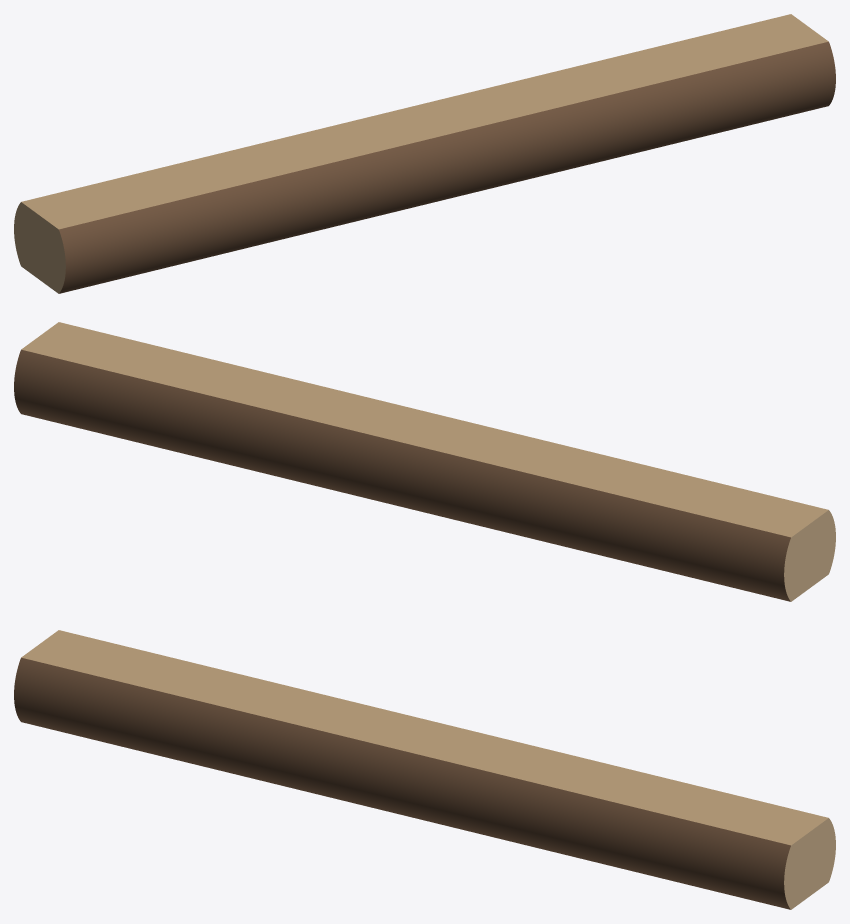
The model's file is SM_RawLog_300_Hewn2.fbx.
The picture shows the model from 3 angles, top to bottom: view 1: azimuth 30°, elevation 25°; view 2: azimuth 150°, elevation 25°; view 3: azimuth 330°, elevation 25°; orthographic projection.
Parts seen in each view (by area): view 1: RawLog_300_Hewn2; view 2: RawLog_300_Hewn2; view 3: RawLog_300_Hewn2.
Part boxes in pixels (x1,y1,x2,y2): RawLog_300_Hewn2: (14,14,835,293); RawLog_300_Hewn2: (14,322,835,601); RawLog_300_Hewn2: (14,630,835,909).
Size of what is drawn, in the model's own units: 3 by 0.24 by 0.35.
